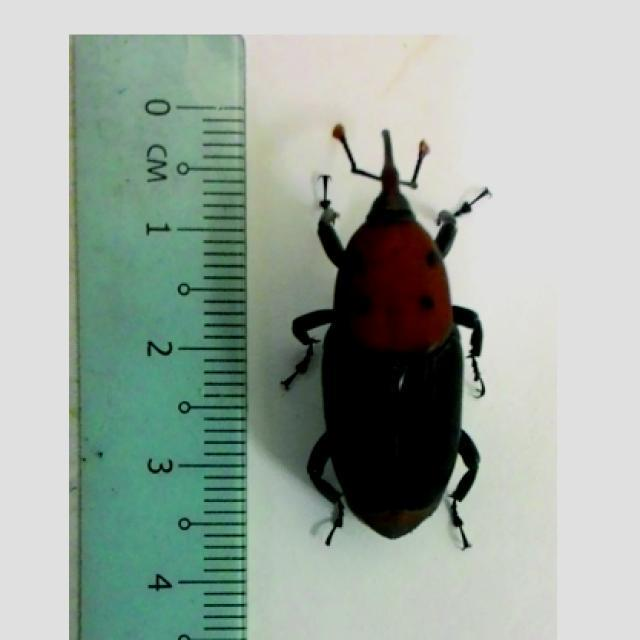Red-palm-weevil: (280, 122, 498, 558)
